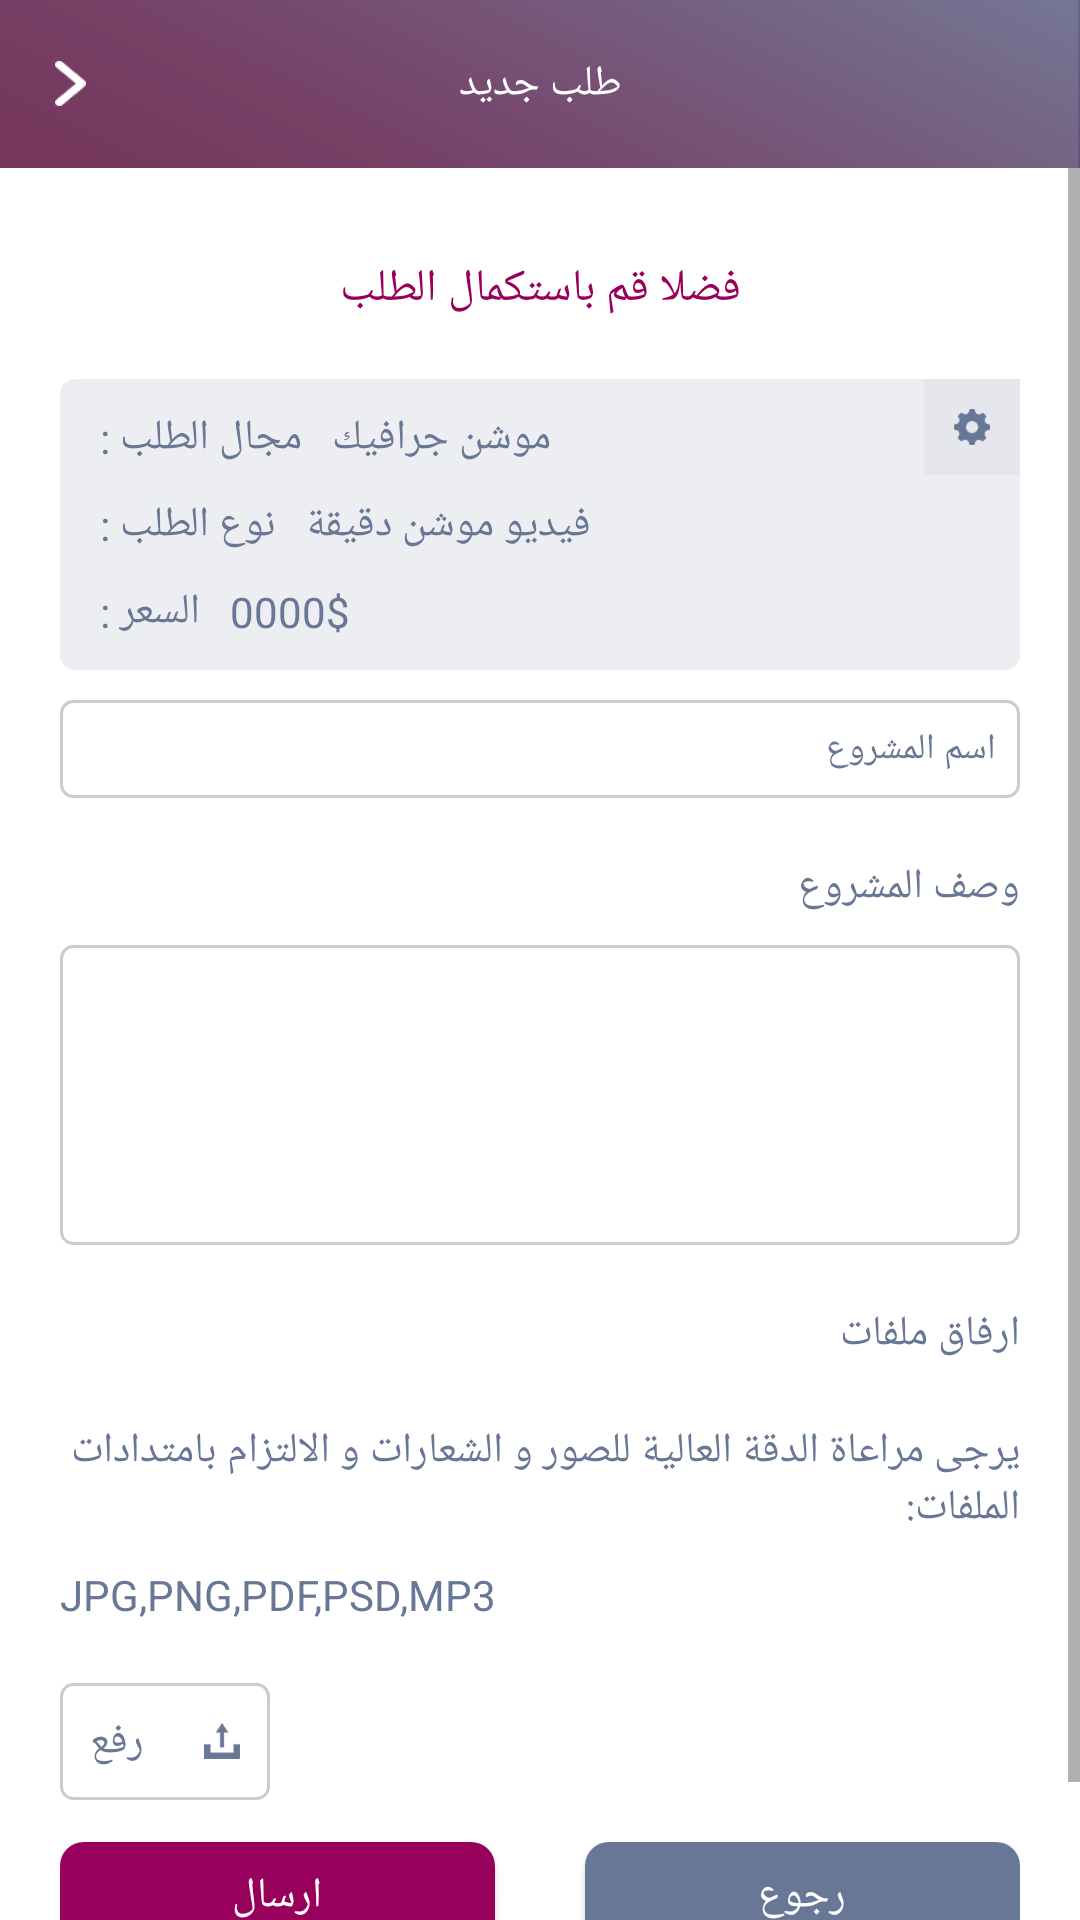

Icon click points for this 1080px×1920px phone screenshot, format [x,y]:
settings: [972,427]
upload: [222,1741]
